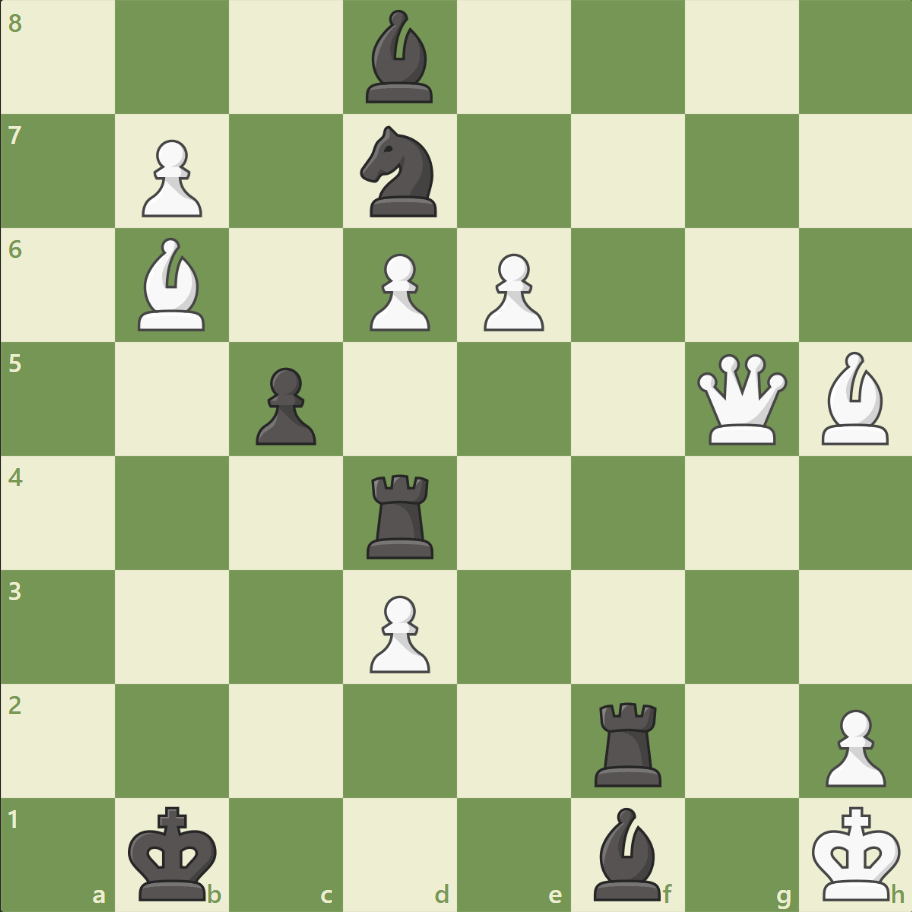B: (131, 233, 215, 336), (812, 347, 896, 449)
K: (806, 798, 906, 906)
P: (133, 132, 208, 223), (474, 246, 549, 337), (361, 246, 435, 337), (361, 586, 435, 677), (815, 700, 889, 791)
Q: (691, 349, 790, 449)
b: (358, 6, 442, 109), (585, 801, 669, 904)
k: (124, 798, 224, 906)
n: (351, 121, 449, 223)
p: (247, 359, 322, 450)
r: (587, 693, 670, 790), (360, 466, 442, 563)
